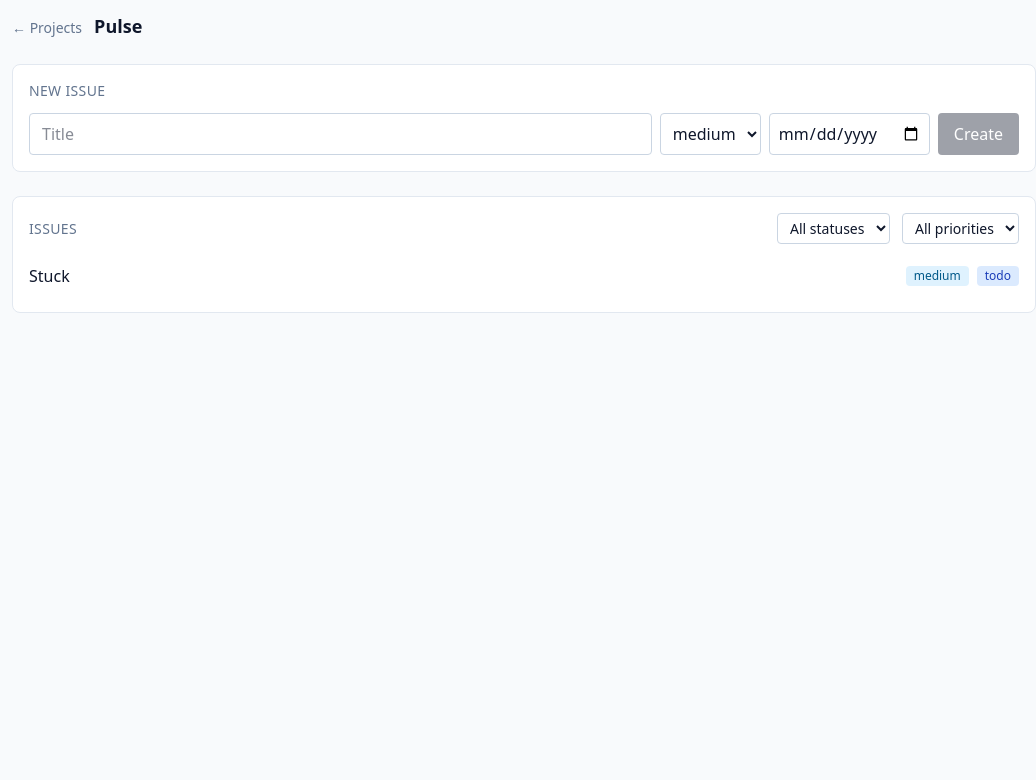
it: failed status change rolls the select back and says so
Click the text "Stuck".
click(49, 276)  # box [29, 265, 70, 287]
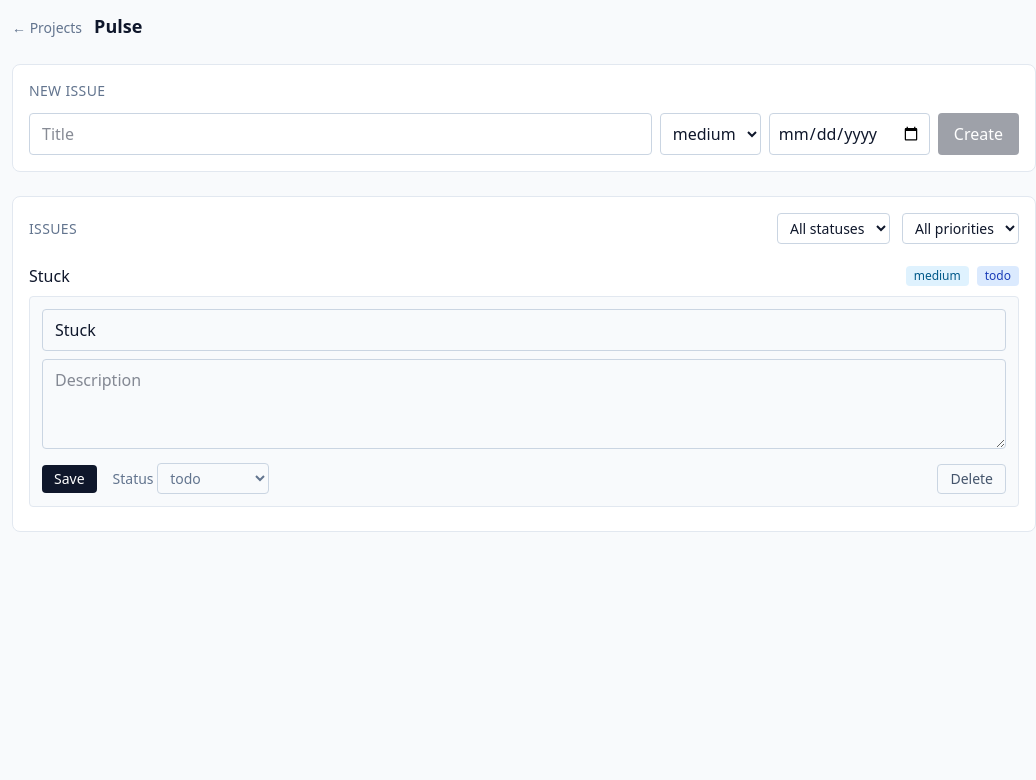
Select "done" in the dropdown labelled "Status" at x=213, y=478, box [157, 463, 269, 494]
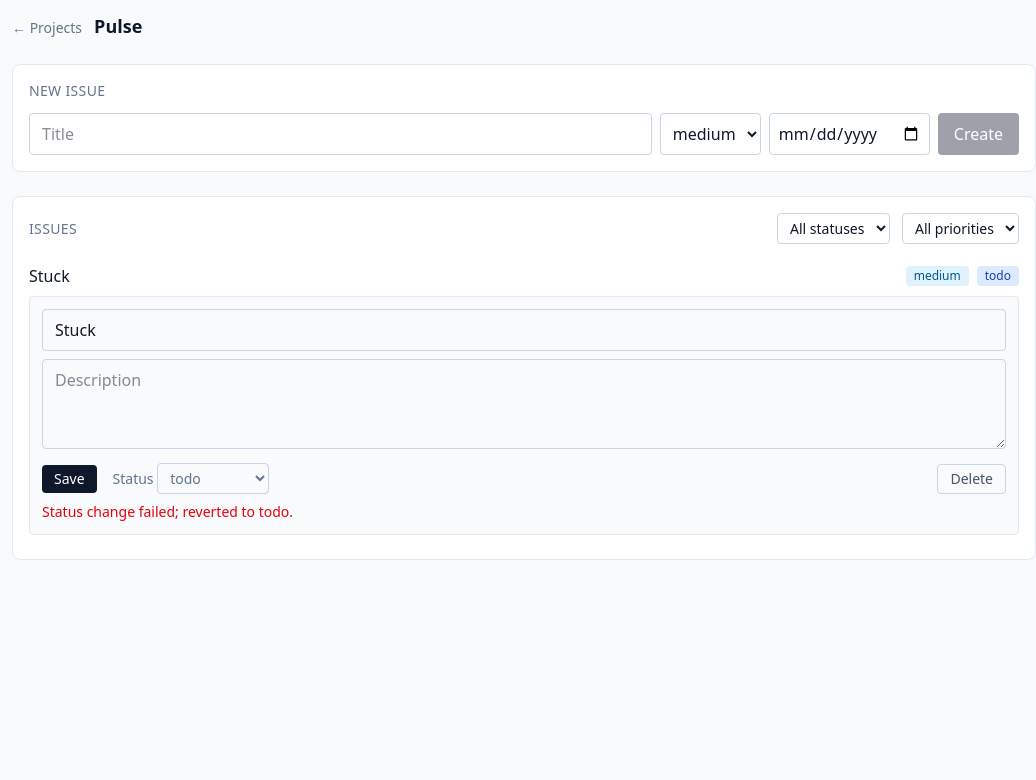
Now the text "Status change failed; reverted to todo." is shown, box [42, 502, 293, 521]
